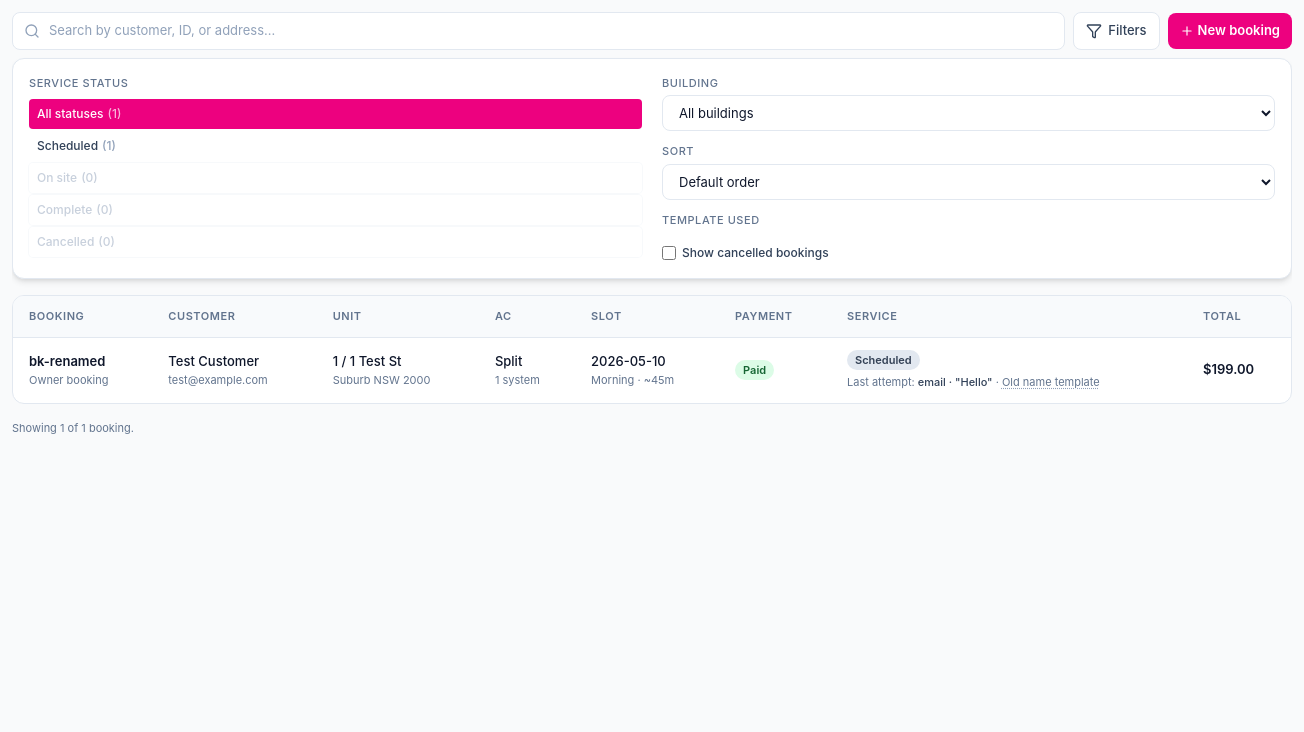
it: BookingsView — template filter pivot › renders the synthetic dropdown option even when both catalogs are empty (Task #162)
Click the button with test id "bookings-row-last-attempt-template" at (1051, 382), box left=1002, top=374, right=1100, bottom=390
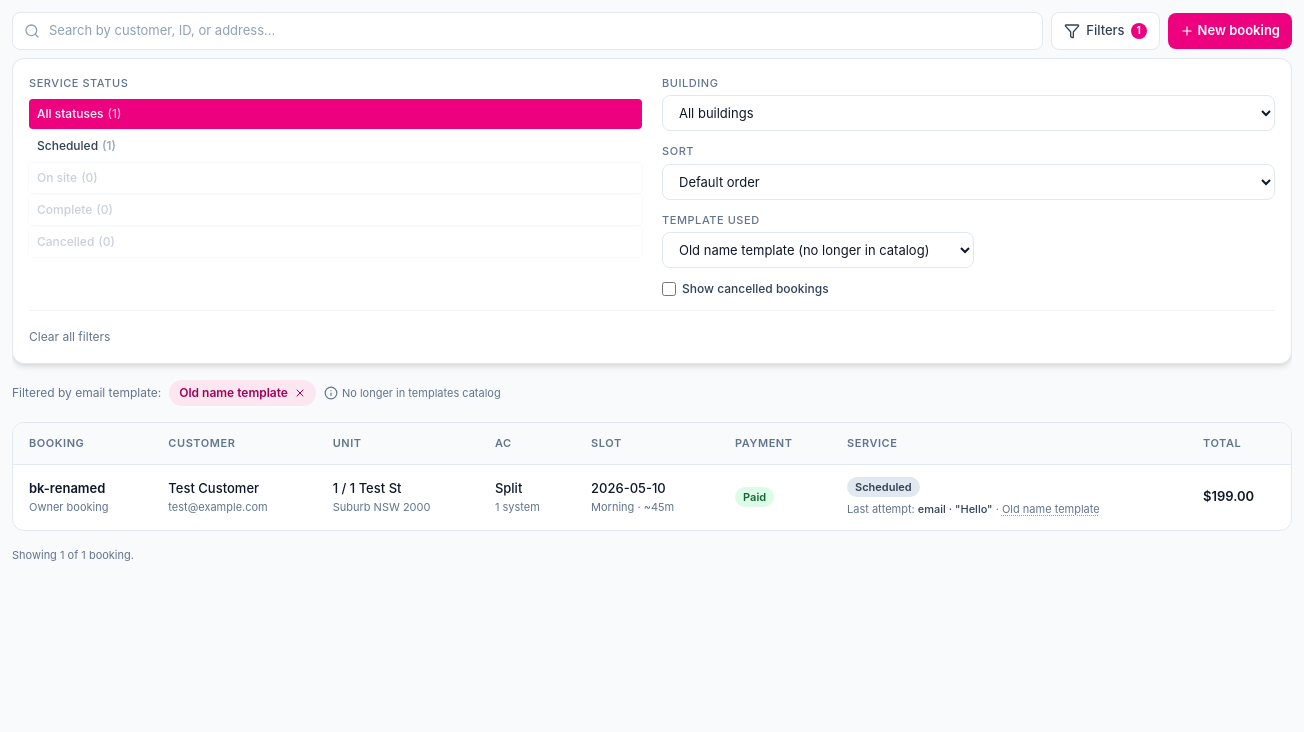
Now the dropdown with test id "bookings-filter-template" is shown, box left=662, top=232, right=974, bottom=268
